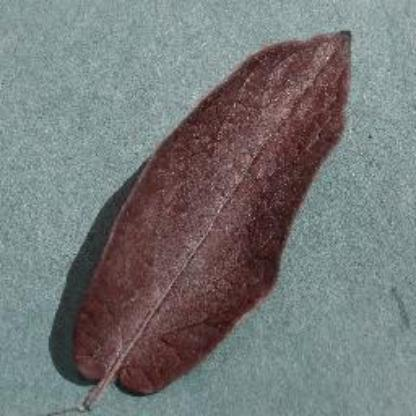Healthy-plant: (46, 17, 382, 403)
